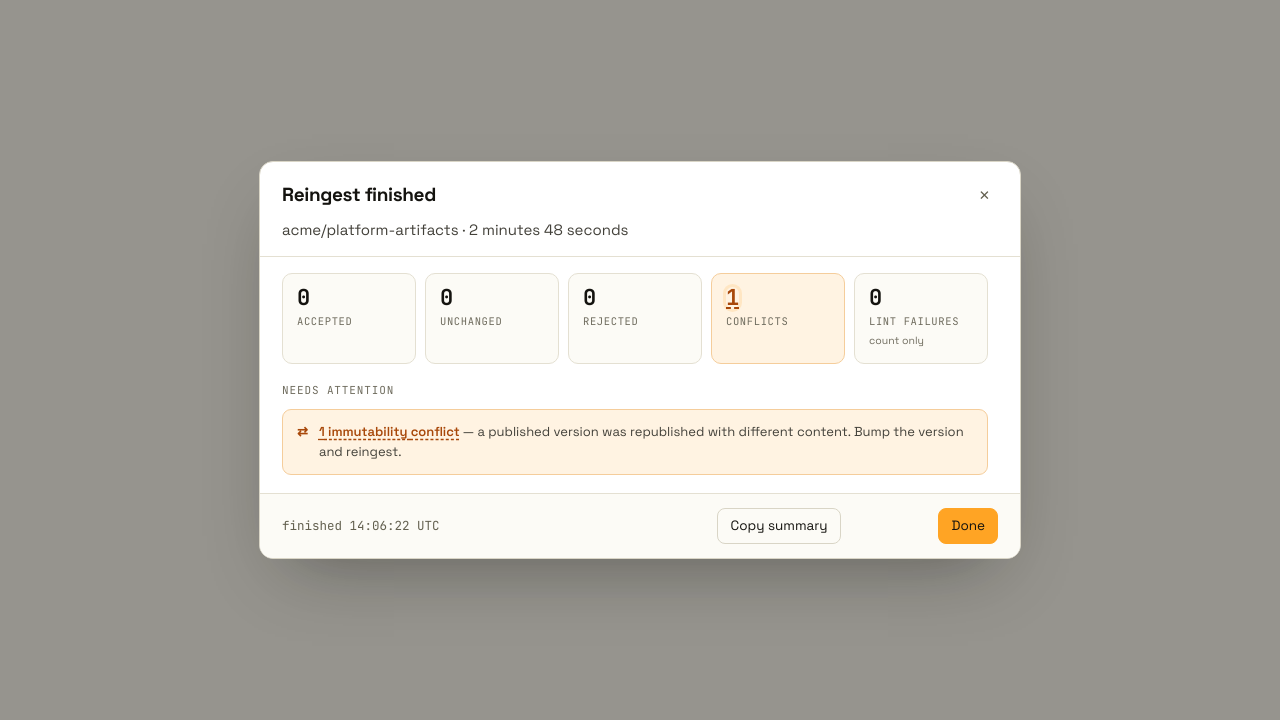
Test: the finished reingest report › elides the middle of each conflicting hash and keeps the whole one on the title
Step 1. Click the button "1 immutability conflict" → x=389, y=432, box [319, 422, 460, 442]
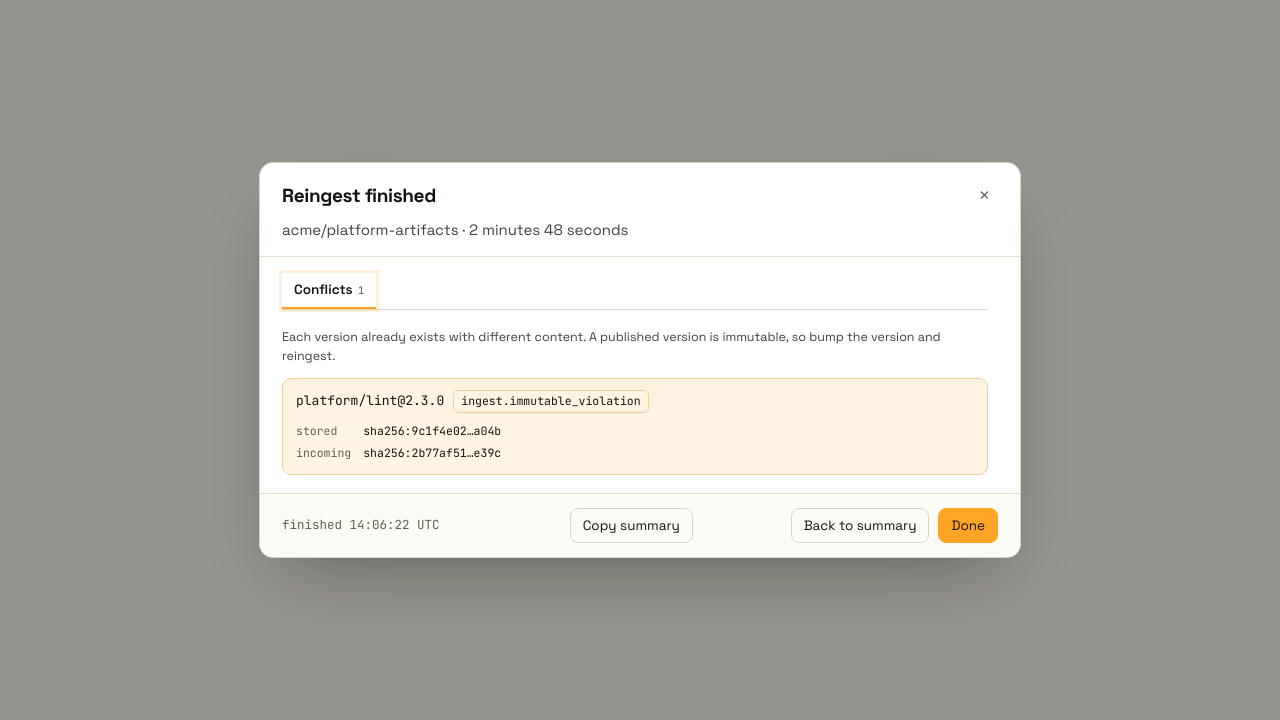
Now the text "sha256:9c1f4e02…a04b" is shown, box [363, 423, 501, 438]
Now the text "sha256:2b77af51…e39c" is shown, box [363, 445, 501, 460]
